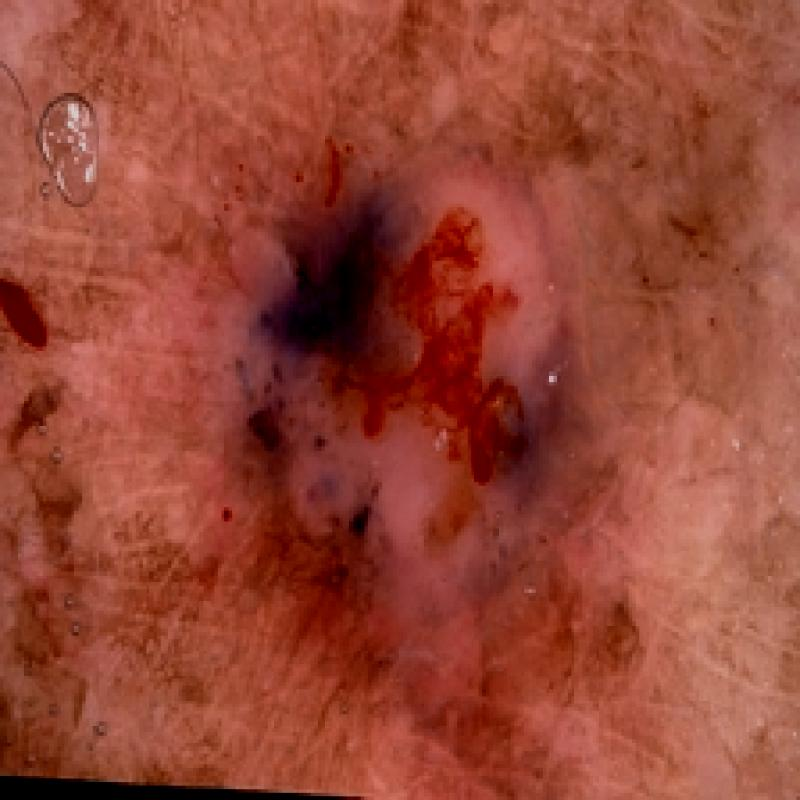malignant: (196, 122, 616, 712)
